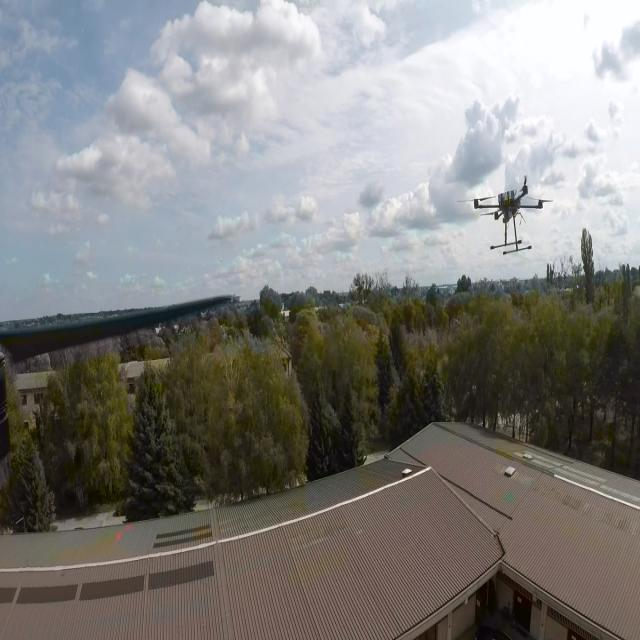UAV: (458, 170, 558, 260)
